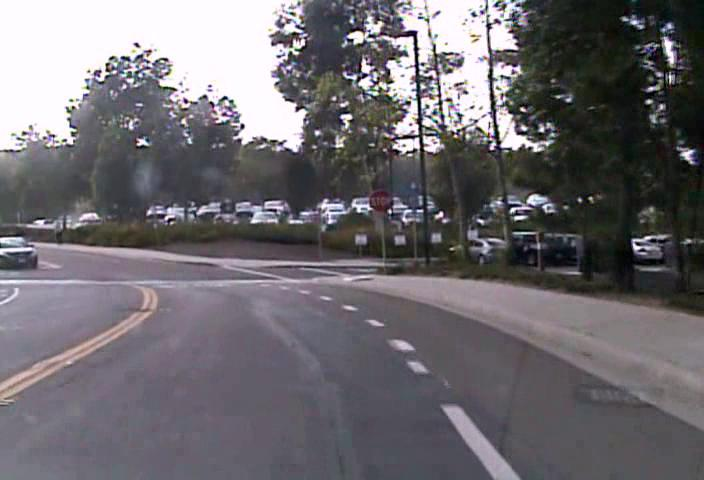stop: (368, 188, 394, 213)
